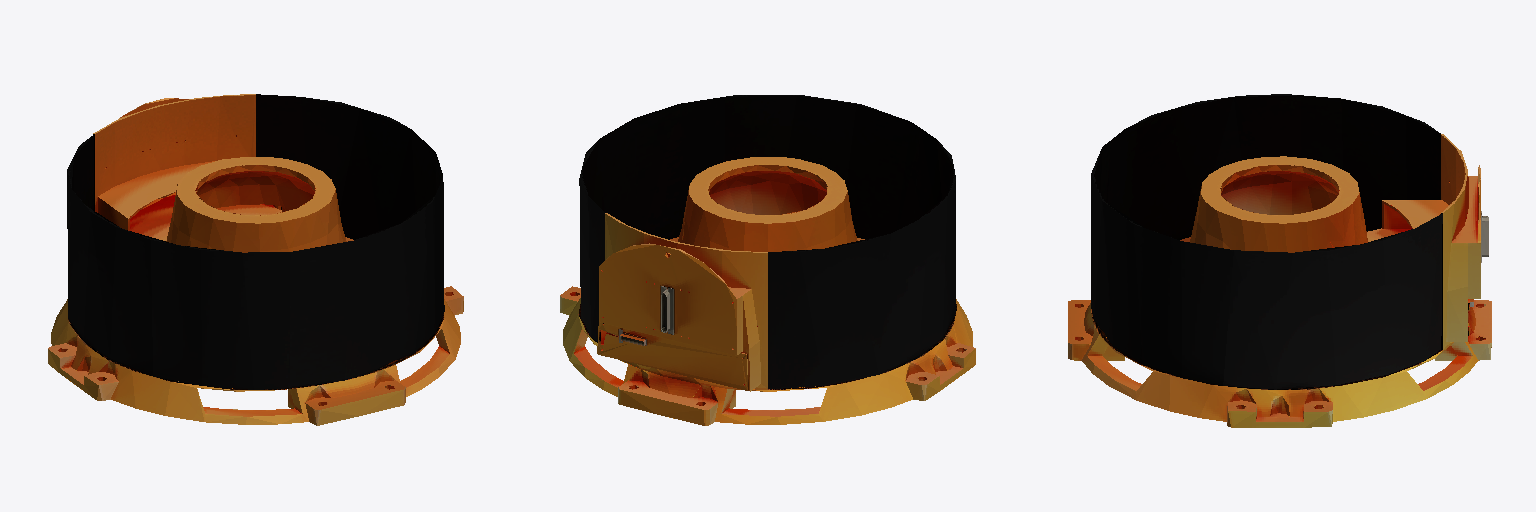
3 views of the same model, side by side, from view 1: azimuth 30°, elevation 25°; view 2: azimuth 150°, elevation 25°; view 3: azimuth 270°, elevation 25° (orthographic).
Parts seen in each view (by area): view 1: Base_Mesh.004, Base.002_Mesh.003; view 2: Base_Mesh.004, Base.002_Mesh.003, Input_Mesh.001; view 3: Base_Mesh.004, Base.002_Mesh.003.
Part boxes in pixels (x1,y1,x2,y2): Base_Mesh.004: (67,94,444,389); Base.002_Mesh.003: (48,94,463,425); Base_Mesh.004: (579,95,955,388); Base.002_Mesh.003: (560,157,975,425); Input_Mesh.001: (619,286,673,345); Base_Mesh.004: (1091,94,1442,389); Base.002_Mesh.003: (1068,134,1491,427).
Bounding box in the file's own units: 1.25 × 0.5377 × 1.25.
Materials: 3 (1 with a texture image).